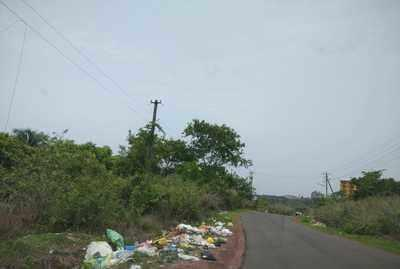garbage bin: (0, 0, 400, 193)
road: (240, 212, 400, 269)
trash: (153, 222, 232, 263), (84, 241, 112, 269), (85, 241, 112, 260), (105, 229, 124, 251), (109, 250, 134, 266), (124, 245, 136, 251)
